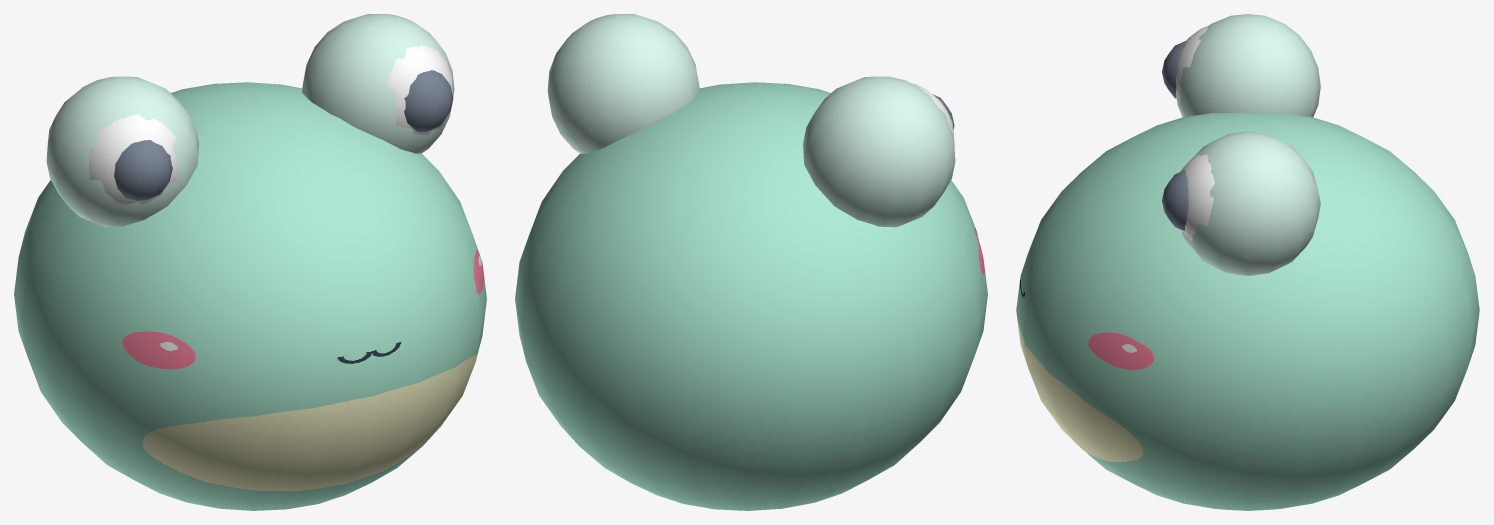
The model's file is froggo.glb.
The picture shows the model from 3 angles, left to right: view 1: azimuth 30°, elevation 25°; view 2: azimuth 150°, elevation 25°; view 3: azimuth 270°, elevation 25°; orthographic projection. The views are drawn at different scales.
Visible parts, largest first — view 1: Froggo; view 2: Froggo; view 3: Froggo.
Boxes of the visible parts, x1,y1,x2,y2 form: Froggo: (14,14,486,510); Froggo: (515,14,987,510); Froggo: (1016,14,1479,510).
Size of the model in its own units: 1.33 by 1.36 by 1.4.
Materials: 4 (1 with a texture image).
